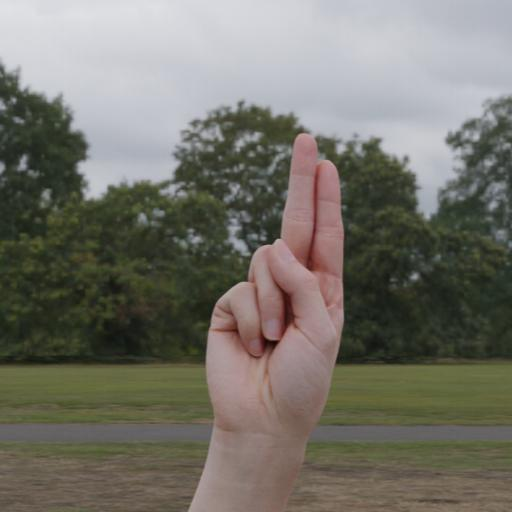U: (175, 116, 355, 512)
